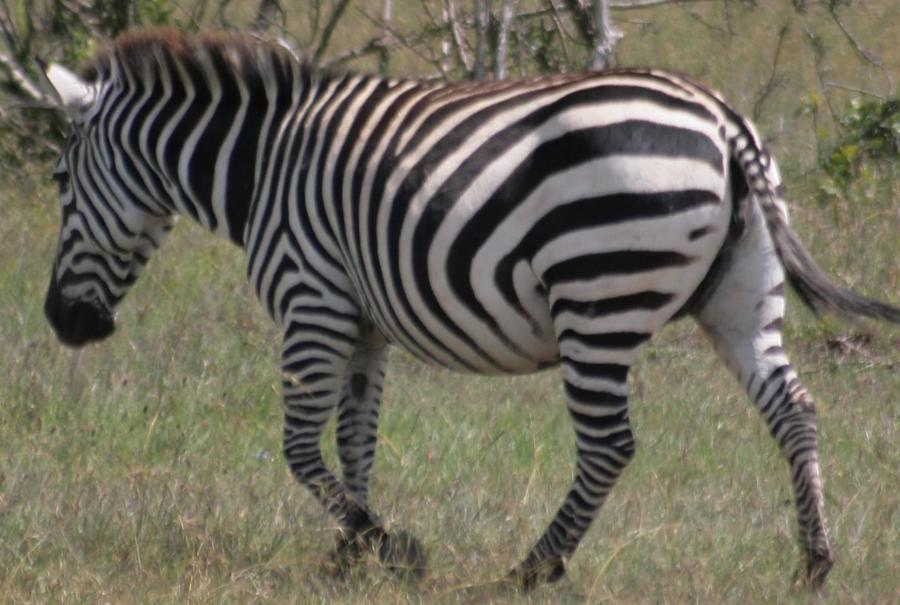zebra_plains: (215, 61, 682, 398)
